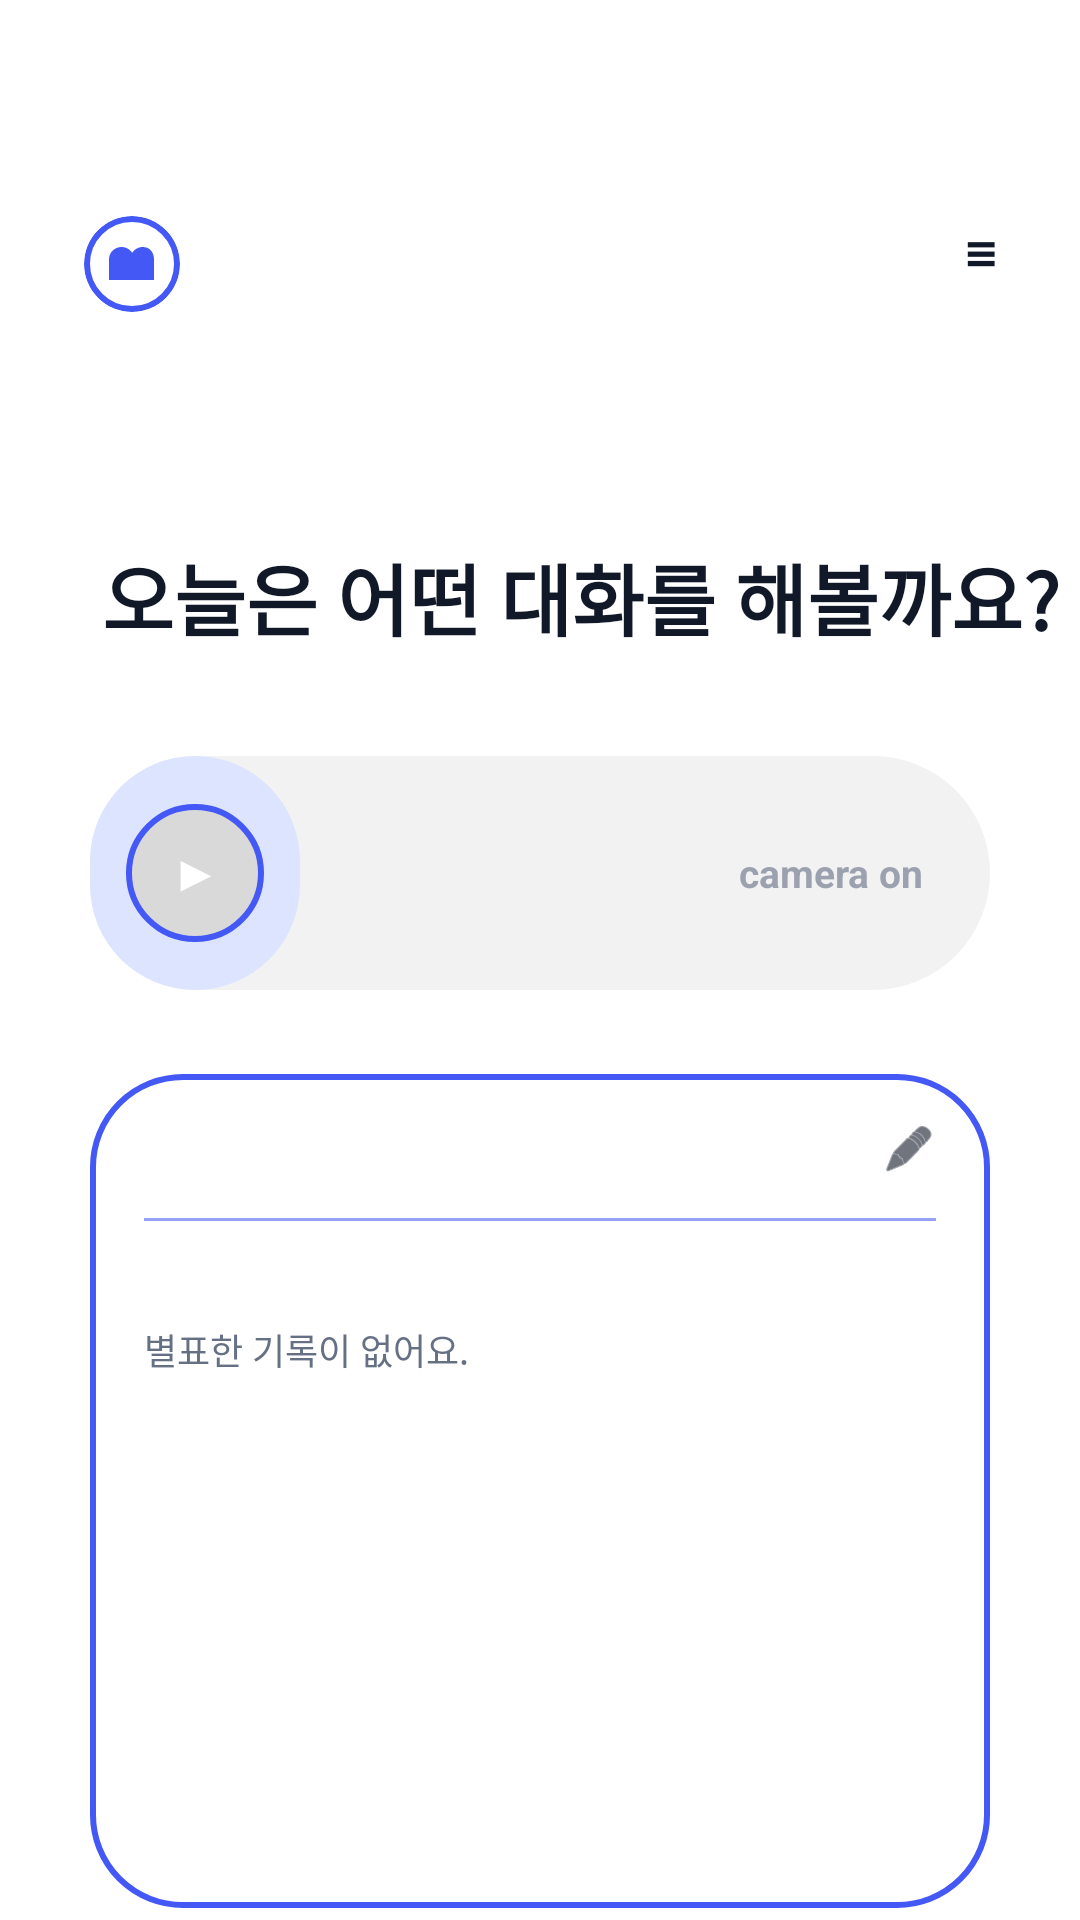

Named icons in this screenshot (1080*1920) and their centers, (x,y):
edit: (909,1148)
